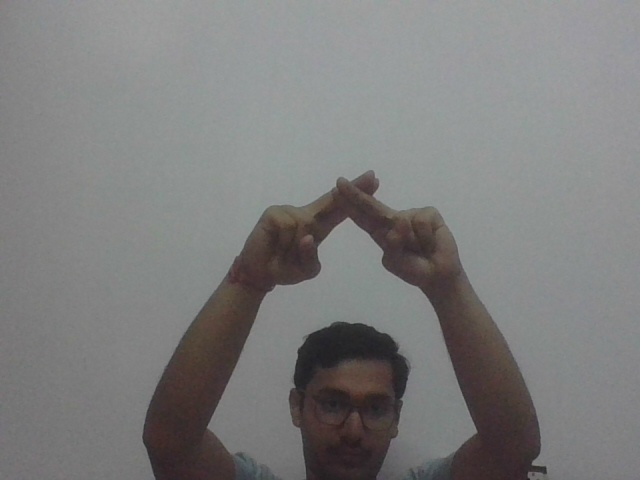F: (258, 165, 464, 293)
